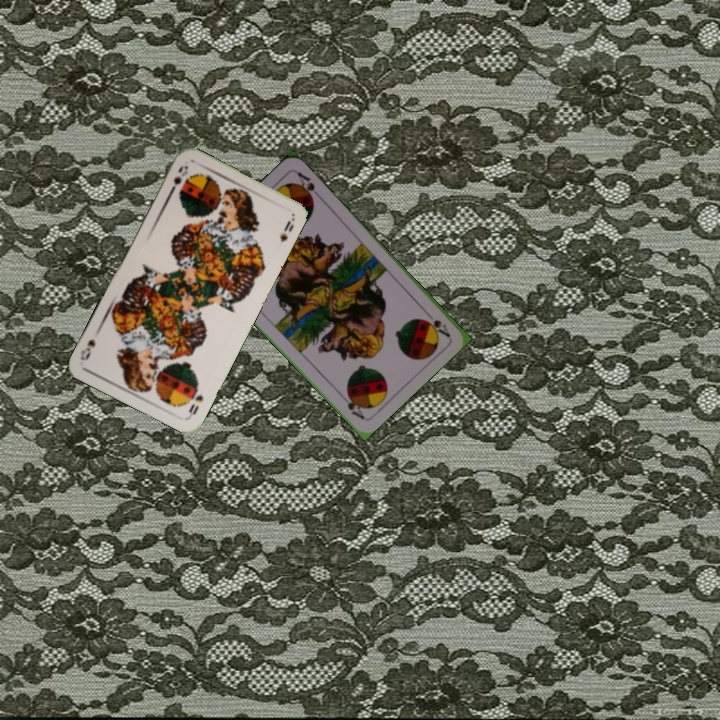SA: (421, 315, 452, 340)
SO: (165, 161, 191, 197), (185, 384, 206, 418)
